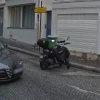Motorcycle: (30, 32, 75, 72)
